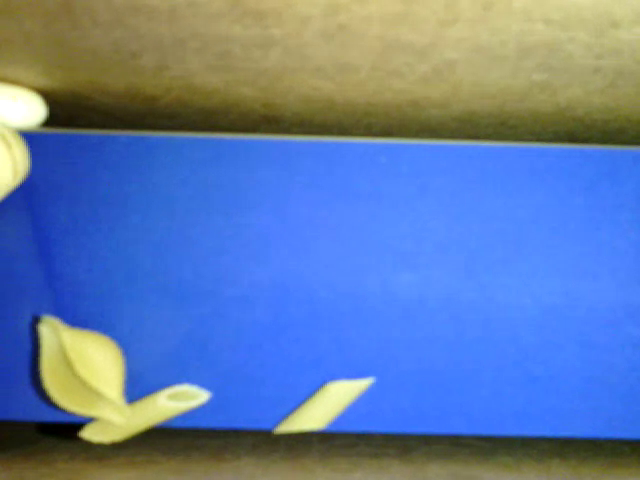penne: (78, 382, 213, 445), (273, 374, 374, 433)
shell: (36, 314, 135, 425)
